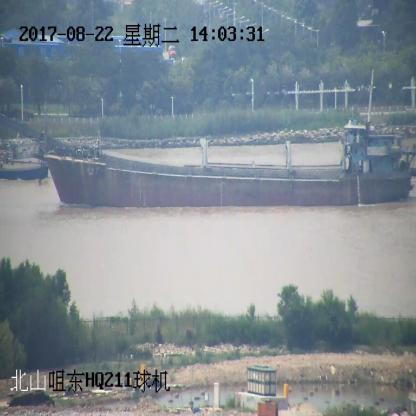Fishing Boat: (0, 139, 51, 178)
